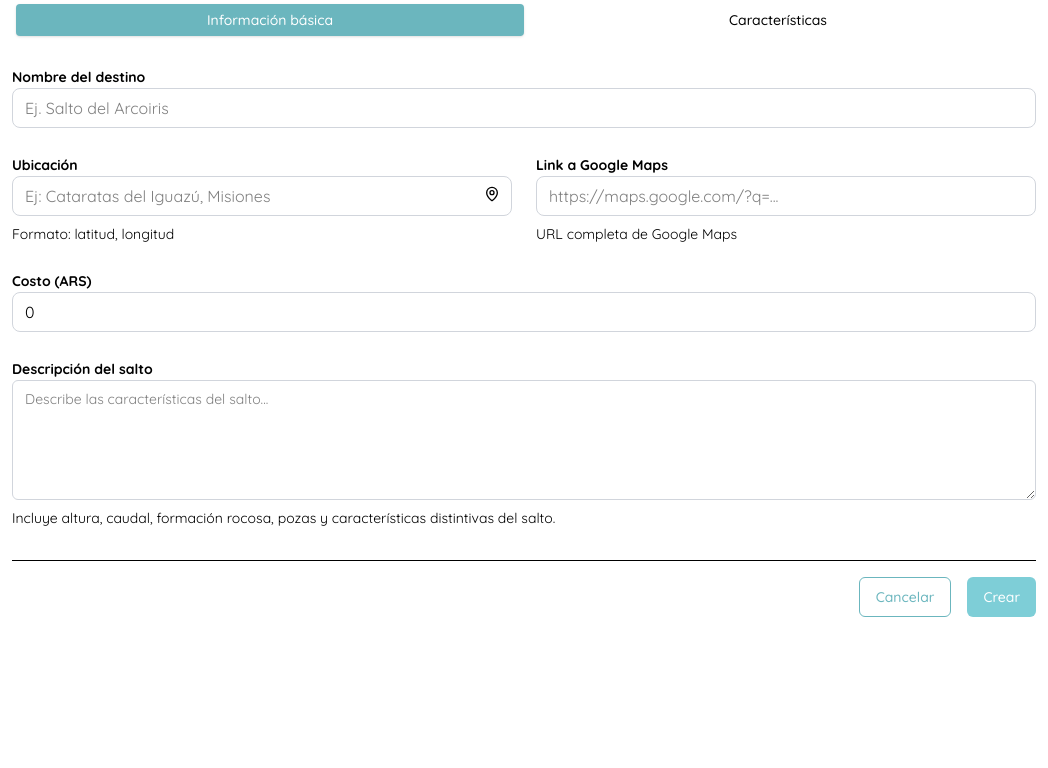
Scenario: SaltoForm › Validación de formulario › valida URL de Google Maps
The image size is (1048, 768).
Type "invalid-url" into the field labelled "Link a Google Maps" at (786, 196), box [536,176,1036,216]
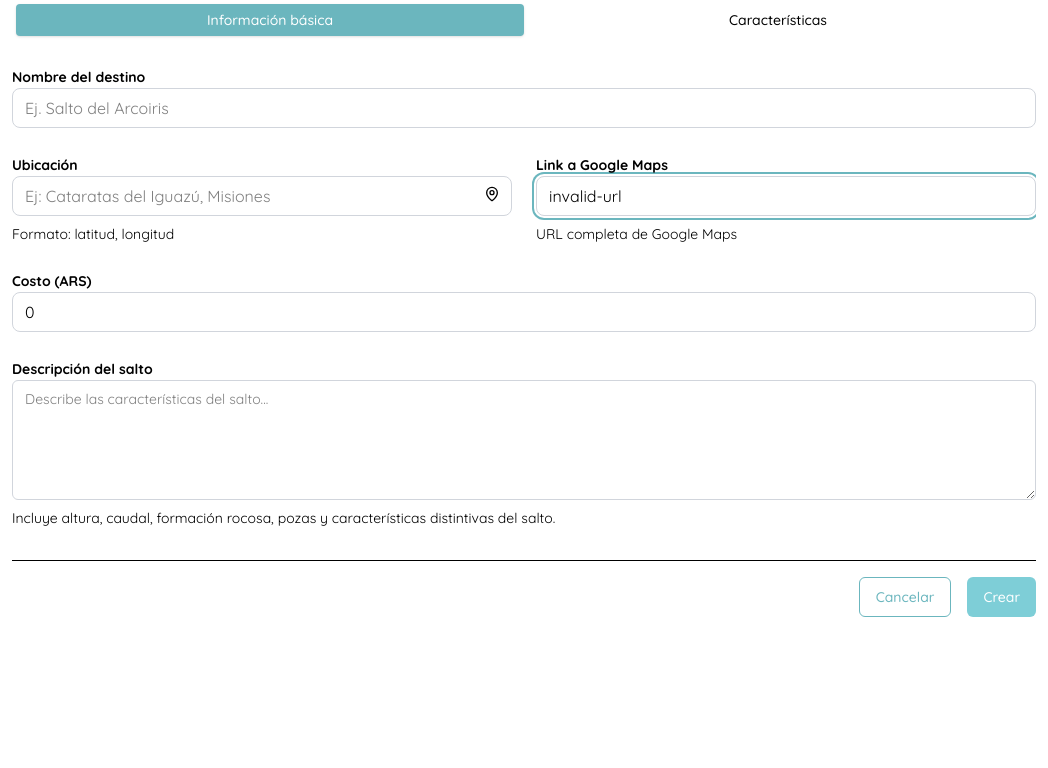
Click the button "Crear" at (1002, 597), box [967,577,1036,617]
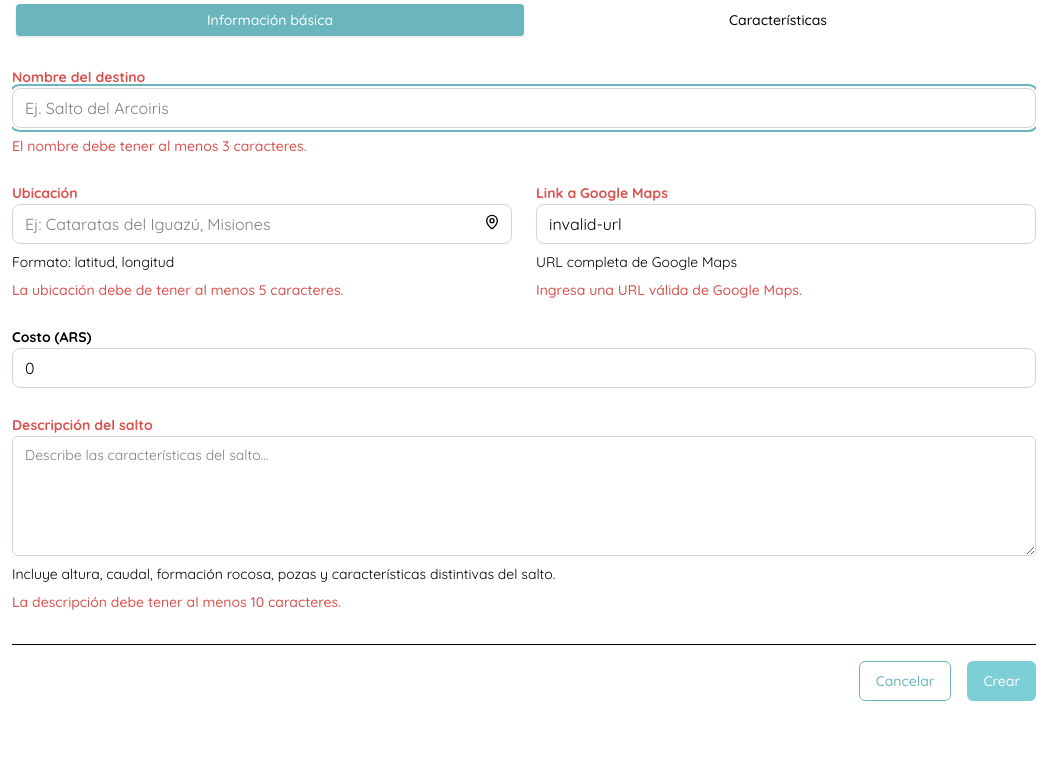
Result: the text "Ingresa una URL válida de Google Maps." is shown at [536,281,802,299]
